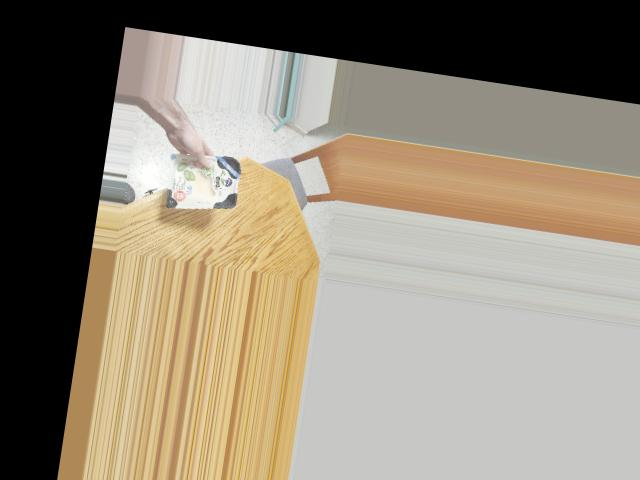cheese: (151, 142, 253, 210)
